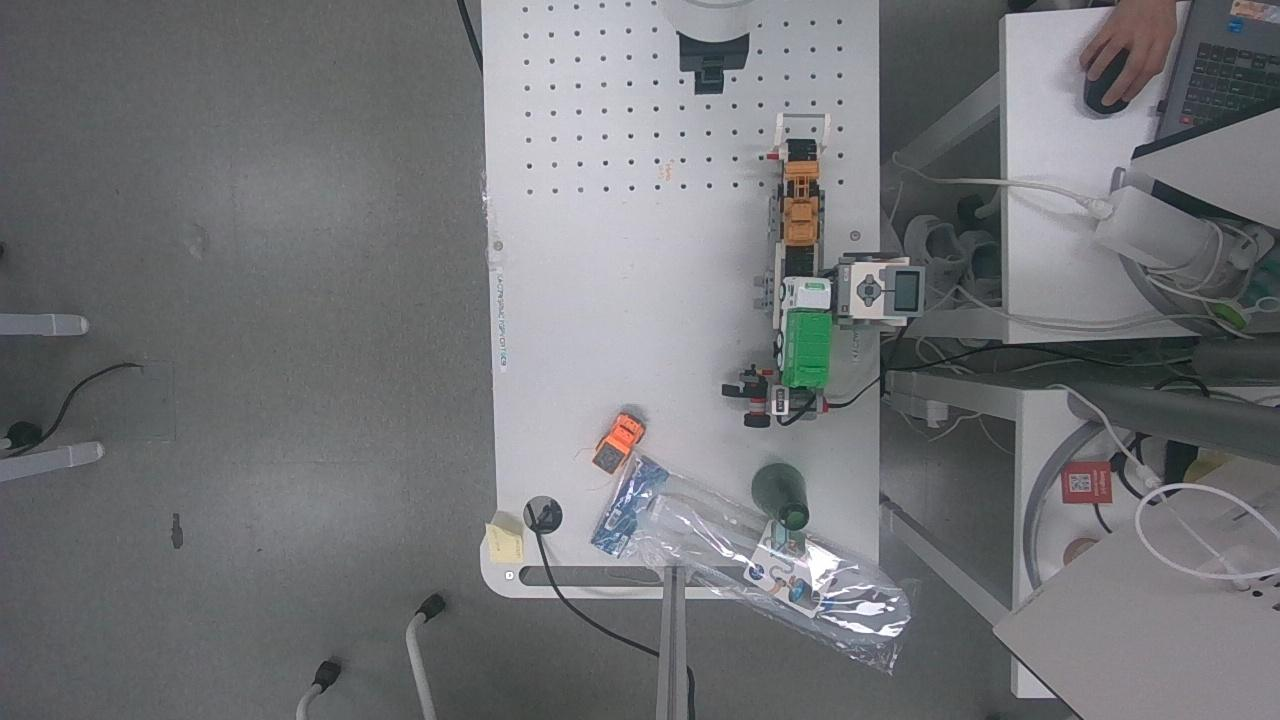green_car: (764, 273, 837, 395)
orange_car: (586, 410, 647, 487)
yellow_car: (777, 153, 825, 254)
